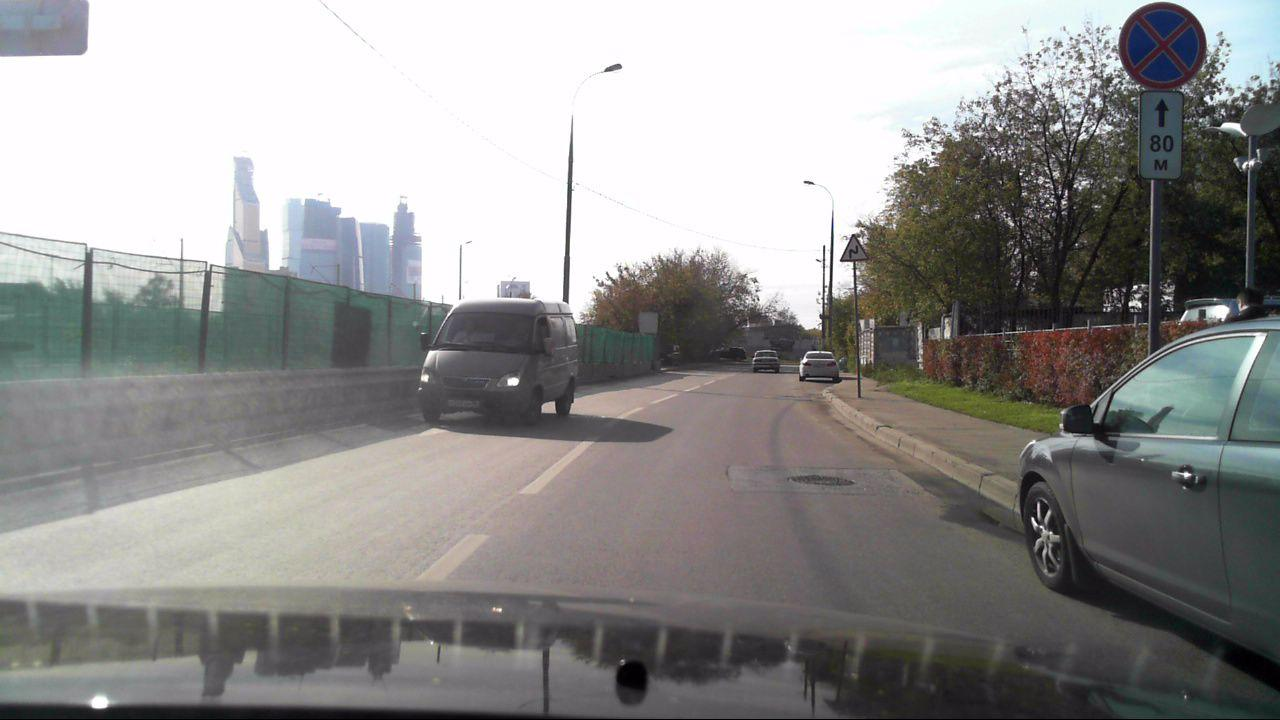1_12_1: (838, 234, 869, 264)
3_27: (1120, 1, 1207, 89)
8_2_2: (1139, 87, 1183, 180)
